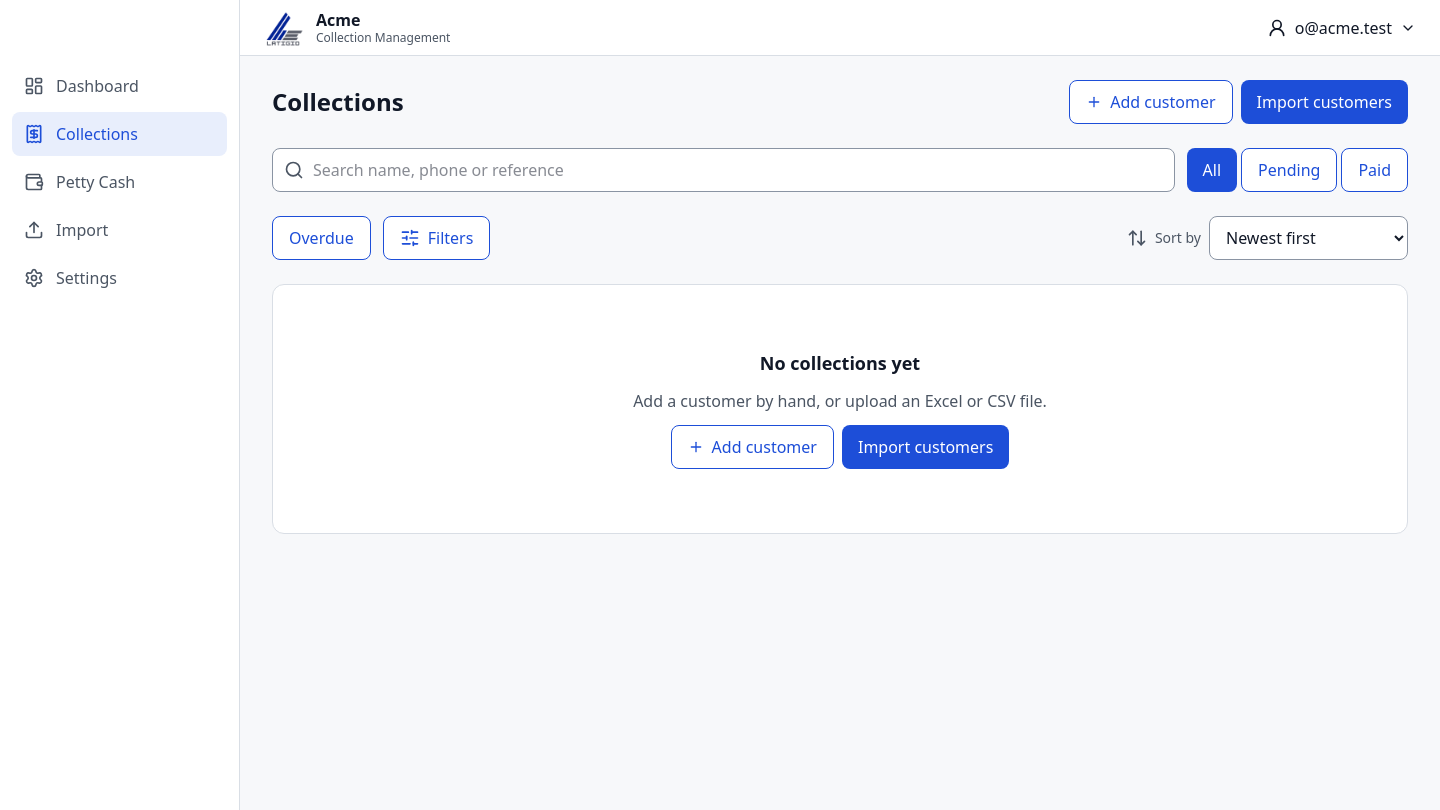
Test: Collections list extras › says so plainly when a search finds nobody
The image size is (1440, 810).
Type "zzz" into the search field named "Search customers". click: (723, 170)
box: [272,148,1175,192]
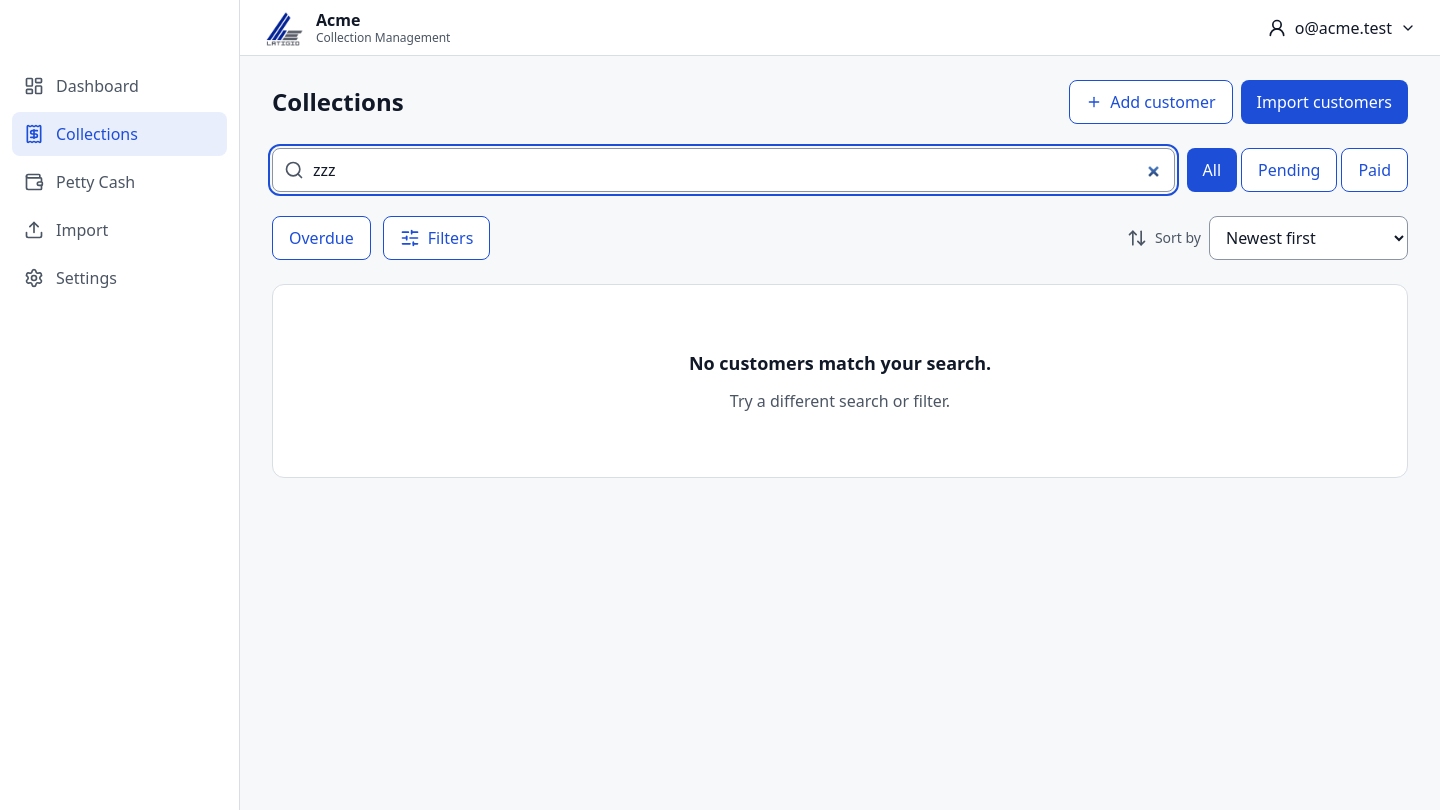
Check: the heading "No customers match your search." is shown, box [689,349,991,377]
